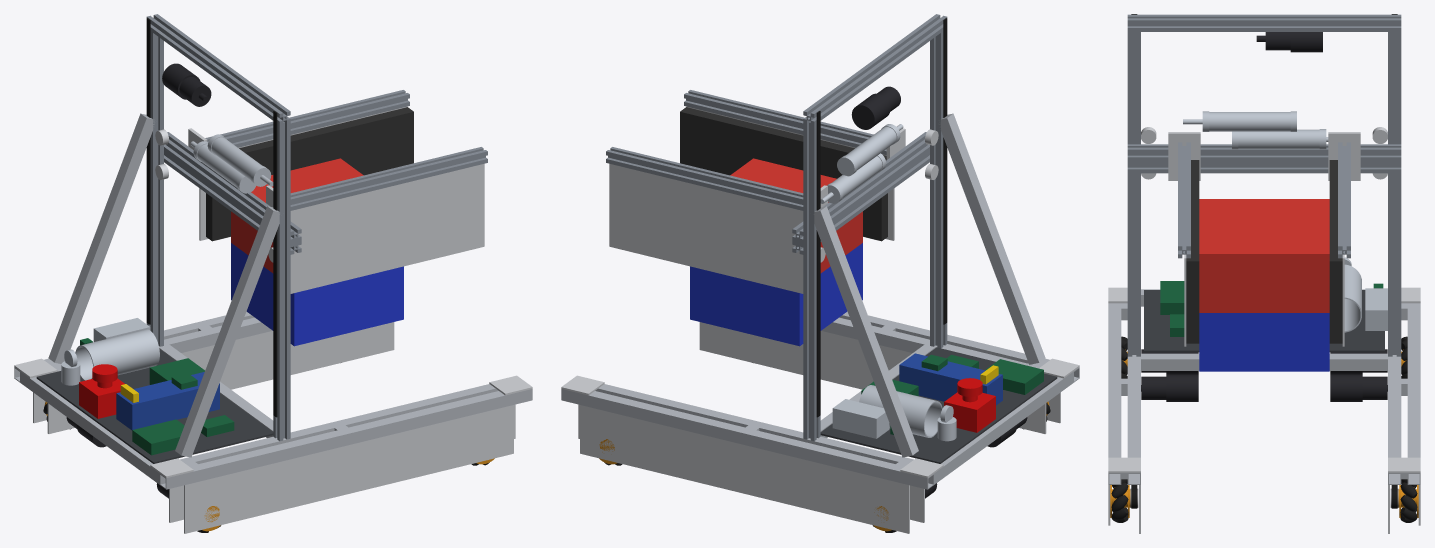
Rendered from TR-B_terjulur.glb.
3 views of the same model, side by side, from view 1: azimuth 30°, elevation 25°; view 2: azimuth 150°, elevation 25°; view 3: azimuth 270°, elevation 25° (orthographic). The views are drawn at different scales.
Parts seen in each view (by area): view 1: pelat_lengan_luar_kanan, rahang_kanan, Sky (peraga)_2, busa_rahang_kiri, rel_luar_kanan, pelat_lengan_dalam_kiri, penguat_tiang_2, penguat_tiang, tiang_carriage_2, dek_belakang, tiang_carriage, lengan_rahang_kanan (+22 smaller); view 2: pelat_lengan_luar_kiri, rahang_kiri, Sky (peraga)_2, busa_rahang_kanan, rel_luar_kiri, pelat_lengan_dalam_kanan, penguat_tiang_2, penguat_tiang, tiang_carriage, tiang_carriage_2, dek_belakang, lengan_rahang_kiri (+20 smaller); view 3: Sky (peraga), Sky (peraga)_2, balok_carriage, palang_atas_carriage, tiang_carriage, tiang_carriage_2, dek_belakang, rel_luar_kiri, rel_luar_kanan, palang_tiang, busa_rahang_kiri, busa_rahang_kanan (+18 smaller).
Part boxes in pixels (<box>): pelat_lengan_luar_kanan: <box>184,405,513,533</box>; rahang_kanan: <box>290,163,484,293</box>; Sky (peraga)_2: <box>231,243,403,346</box>; busa_rahang_kiri: <box>206,107,413,241</box>; rel_luar_kanan: <box>160,389,532,489</box>; pelat_lengan_dalam_kiri: <box>47,322,394,433</box>; penguat_tiang_2: <box>175,206,279,457</box>; penguat_tiang: <box>48,113,154,363</box>; tiang_carriage_2: <box>273,121,290,441</box>; dek_belakang: <box>36,349,273,463</box>; tiang_carriage: <box>146,31,163,346</box>; lengan_rahang_kanan: <box>290,147,487,210</box>; pelat_lengan_luar_kiri: <box>580,405,909,533</box>; rahang_kiri: <box>609,163,803,293</box>; Sky (peraga)_2: <box>690,243,862,346</box>; busa_rahang_kanan: <box>680,107,887,241</box>; rel_luar_kiri: <box>561,389,933,489</box>; pelat_lengan_dalam_kanan: <box>699,322,1046,433</box>; penguat_tiang_2: <box>939,113,1045,364</box>; penguat_tiang: <box>813,206,918,457</box>; tiang_carriage: <box>803,121,820,441</box>; tiang_carriage_2: <box>930,31,947,348</box>; dek_belakang: <box>820,347,1057,463</box>; lengan_rahang_kiri: <box>606,147,803,210</box>; Sky (peraga): <box>1199,199,1329,312</box>; Sky (peraga)_2: <box>1199,313,1329,371</box>; balok_carriage: <box>1127,144,1401,173</box>; palang_atas_carriage: <box>1127,14,1401,31</box>; tiang_carriage: <box>1388,32,1401,356</box>; tiang_carriage_2: <box>1127,32,1140,356</box>; dek_belakang: <box>1144,290,1384,352</box>; rel_luar_kiri: <box>1407,303,1420,484</box>; rel_luar_kanan: <box>1108,303,1121,484</box>; palang_tiang: <box>1141,353,1387,370</box>; busa_rahang_kiri: <box>1329,160,1342,343</box>; busa_rahang_kanan: <box>1186,160,1199,343</box>.
Size of the model in its own units: 668 by 689 by 480.
